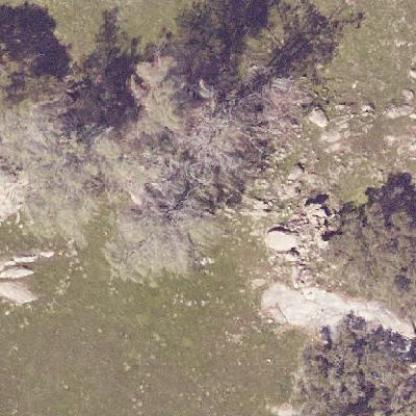tree-top: (319, 182, 415, 311), (307, 318, 415, 415)
